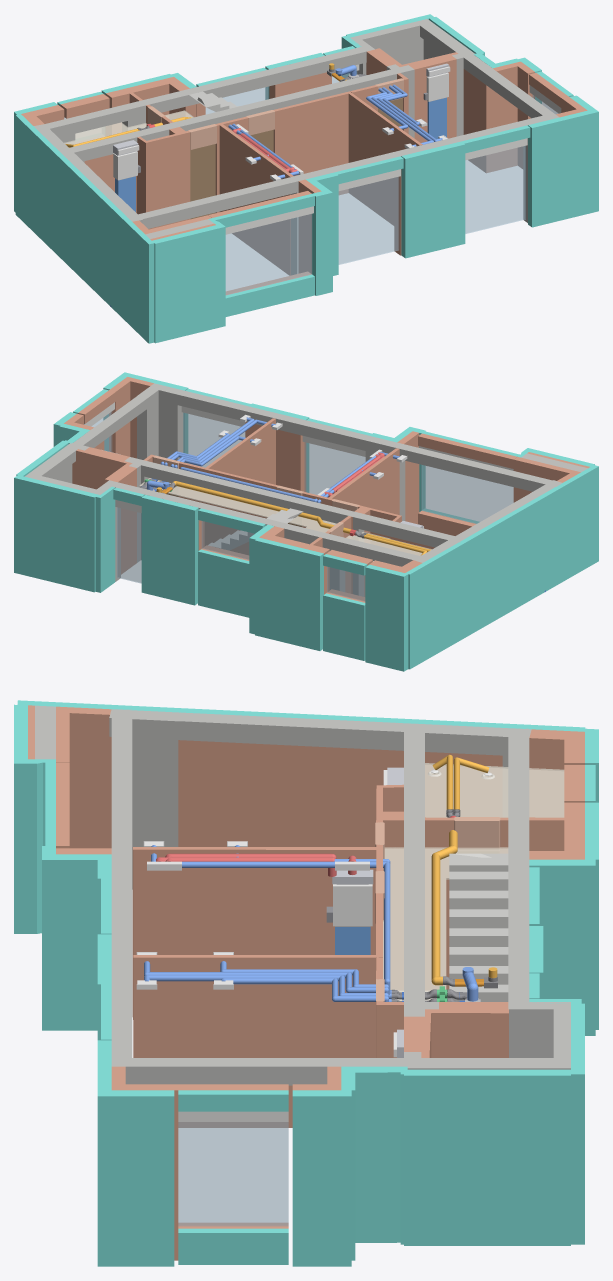
File: HouseEM_AR_F1_open.glb
3 views of the same model, one above another, from view 1: azimuth 30°, elevation 25°; view 2: azimuth 150°, elevation 25°; view 3: azimuth 270°, elevation 25° (orthographic). The views are drawn at different scales.
Visible parts, largest first — view 1: F1-ET06, F1-ET04, F1-ET17, F1-ET01, F1-EO07, F1-INTW11, F1-INTW08, F1-EO05, F1-EO06, F1-INTW10, F1-BEAM05, F1-COL07 (+47 smaller); view 2: F1-ET06, F1-ET14, F1-ET07, F1-ET18, F1-ET05, F1-EO07, F1-BEAM02, F1-BEAM08, F1-EO02-SILL-ET, F1-COL02, F1-EO01-SILL-ET, F1-INTW08 (+41 smaller); view 3: F1-ET13, F1-INTW10, F1-BW04, F1-INTW08, F1-ET02, F1-EO04, F1-ET08, F1-ET16, F1-ET10, F1-ST01, F1-ET21, F1-BEAM03 (+54 smaller).
Part boxes in pixels (x1,y1,x2,y2): F1-ET06: (15,114,154,343); F1-ET04: (152,224,225,343); F1-ET17: (401,142,465,258); F1-ET01: (528,110,591,227); F1-EO07: (225,214,311,295); F1-INTW11: (273,91,351,194); F1-INTW08: (217,124,293,275); F1-EO05: (465,146,525,233); F1-EO06: (338,177,398,264); F1-INTW10: (348,93,422,225); F1-BEAM05: (128,45,374,112); F1-COL07: (350,19,474,136); F1-ET06: (405,465,598,669); F1-ET14: (14,475,97,592); F1-ET07: (255,537,323,650); F1-ET18: (141,495,198,605); F1-ET05: (365,564,409,671); F1-EO07: (421,465,513,523); F1-BEAM02: (149,383,404,450); F1-BEAM08: (124,460,363,523); F1-EO02-SILL-ET: (198,549,249,617); F1-COL02: (137,383,183,460); F1-EO01-SILL-ET: (323,593,365,660); F1-INTW08: (328,448,399,514); F1-ET13: (407,1069,570,1245); F1-INTW10: (133,955,375,1127); F1-BW04: (178,740,403,846); F1-INTW08: (132,847,376,1019); F1-ET02: (97,1090,174,1266); F1-EO04: (178,1122,288,1226); F1-ET08: (292,1090,351,1266); F1-ET16: (529,859,595,1035); F1-ET10: (355,1066,400,1242); F1-ST01: (449,853,508,1001); F1-ET21: (56,854,97,1030); F1-BEAM03: (109,709,425,750).
Bounding box in the file's own units: 13.45 × 2.7 × 8.4.
